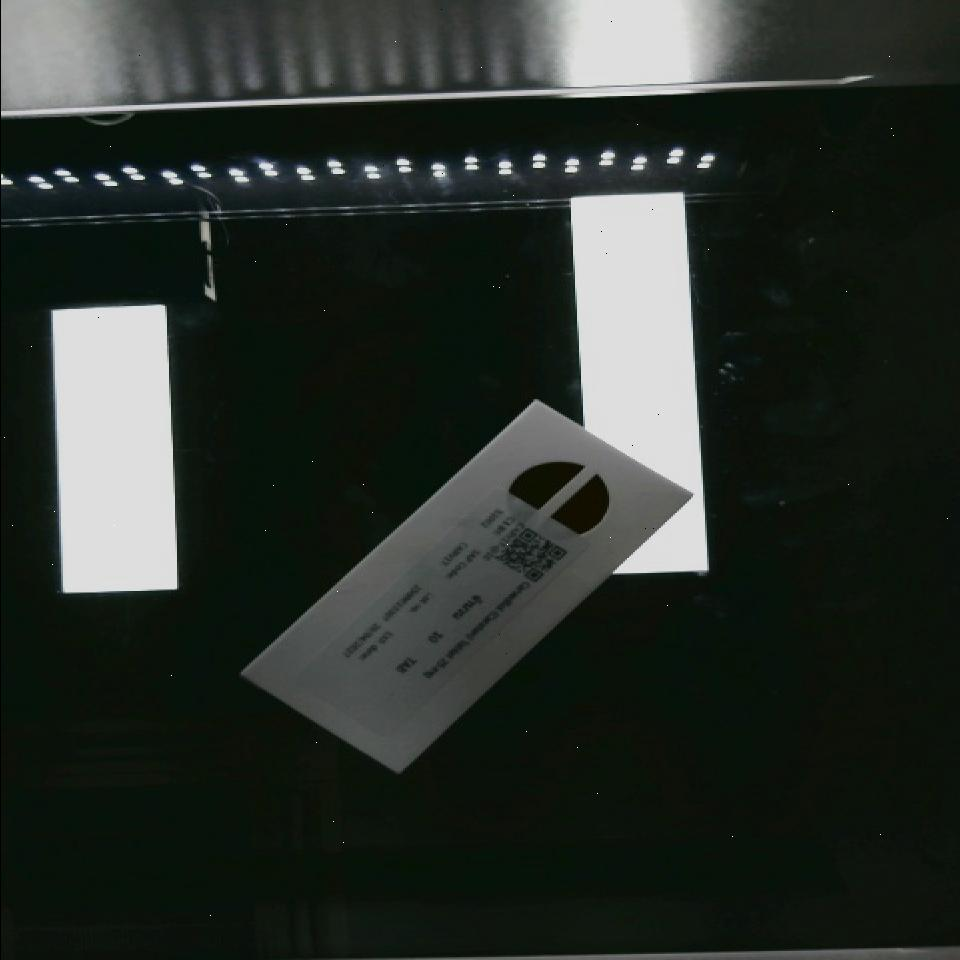medicine_box: (236, 361, 692, 806)
qr_code: (485, 515, 585, 598)
